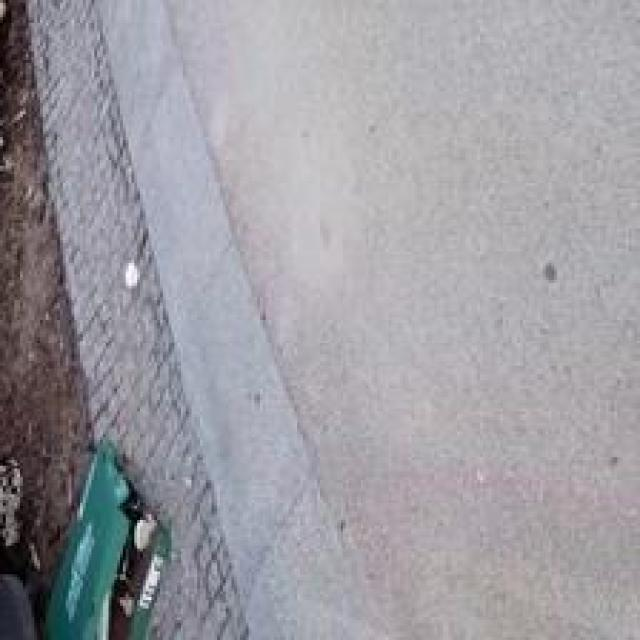Cardboard: (41, 441, 178, 640)
